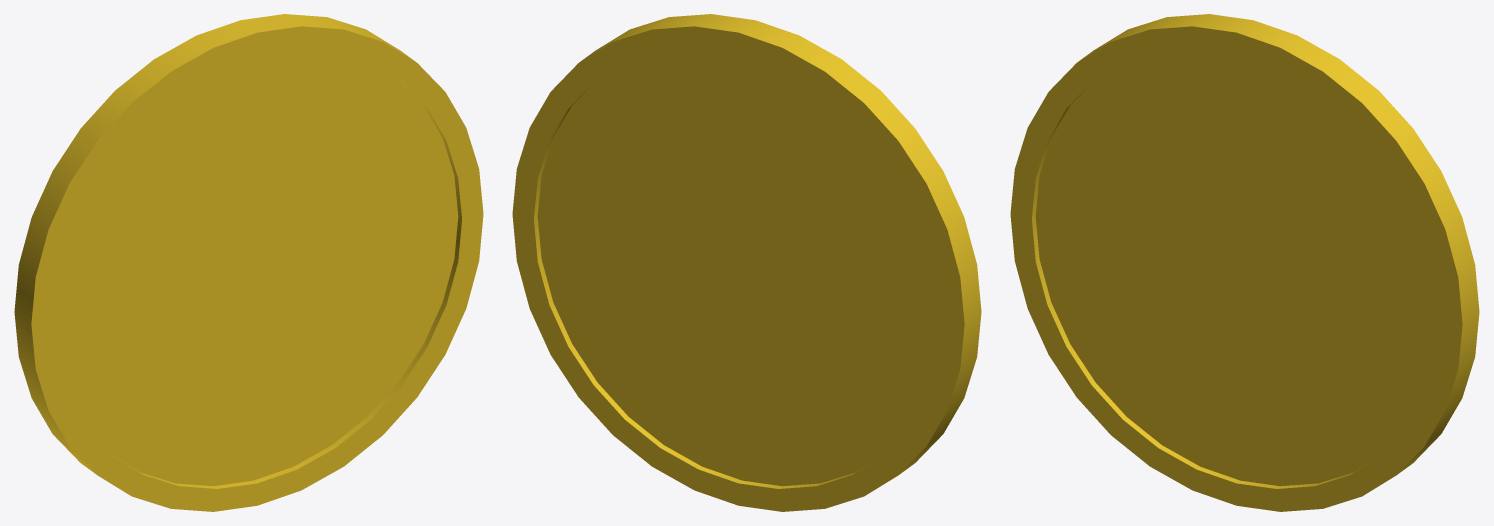
The model's file is CrowCoin.fbx.
3 renders of one model, left to right at view 1: azimuth 30°, elevation 25°; view 2: azimuth 150°, elevation 25°; view 3: azimuth 330°, elevation 25°, orthographic.
Parts seen in each view (by area): view 1: Circle; view 2: Circle; view 3: Circle.
Part boxes in pixels (x1,y1,x2,y2): Circle: (14,14,483,511); Circle: (512,14,981,511); Circle: (1010,14,1479,511).
Bounding box in the file's own units: 0.1384 × 0.00897 × 0.1384.
